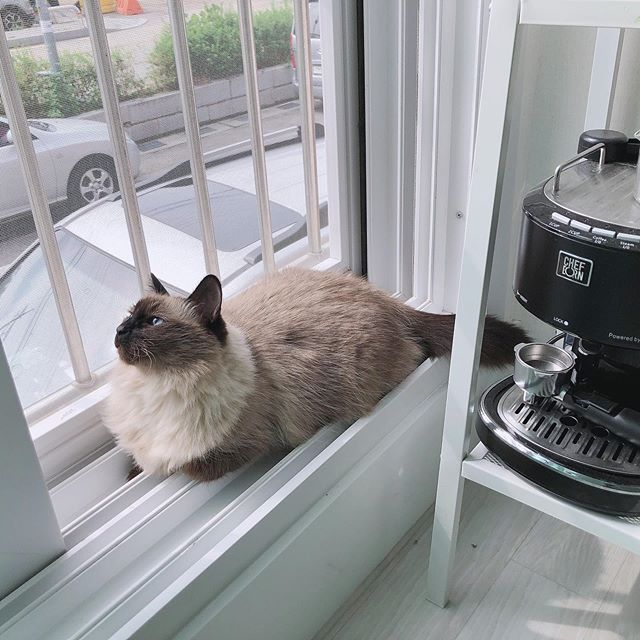cat: (116, 268, 226, 392)
